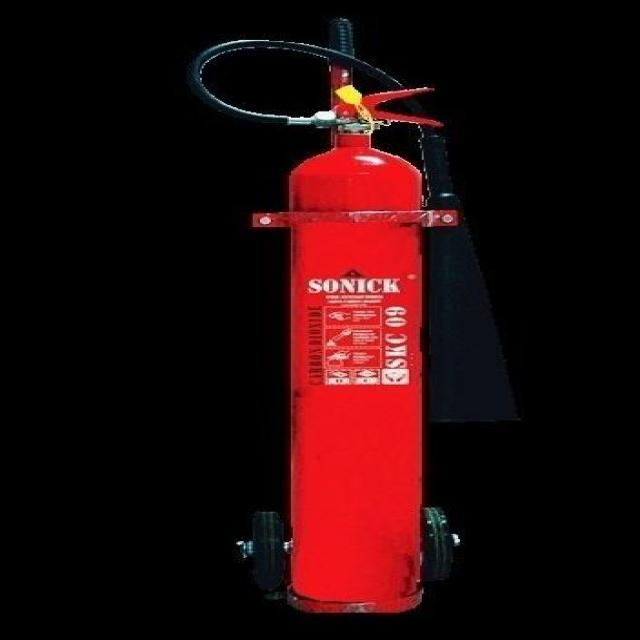fire_extinguisher: (179, 12, 534, 616)
